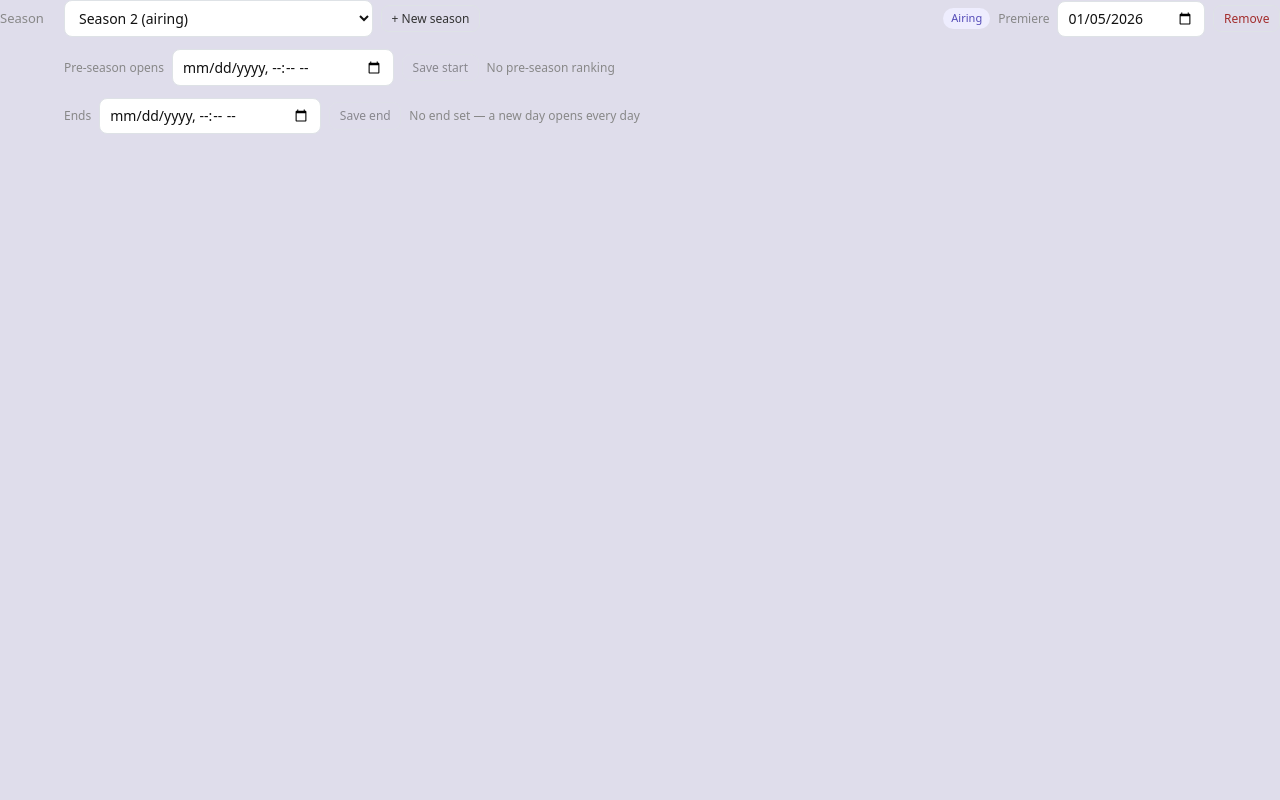
AdminSeasons › shows the selected DAILY season's premiere date and updates it
Expected: the date field labelled "Premiere" holds "2026-01-05", [1058,0,1206,37]
Click the button "+ New season". click: click(430, 19)
box: [381,5,480,32]
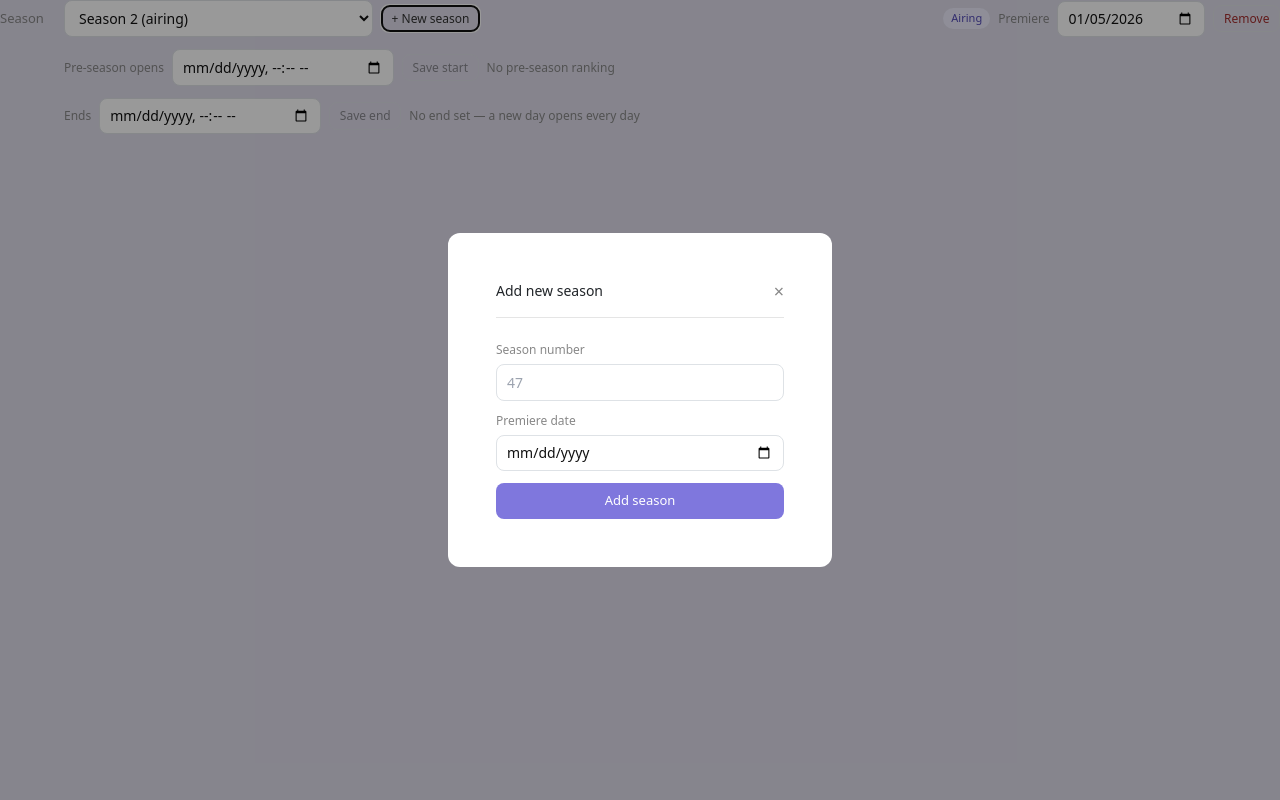
Now the text "Premiere date" is shown, box [496,412,576,429]
